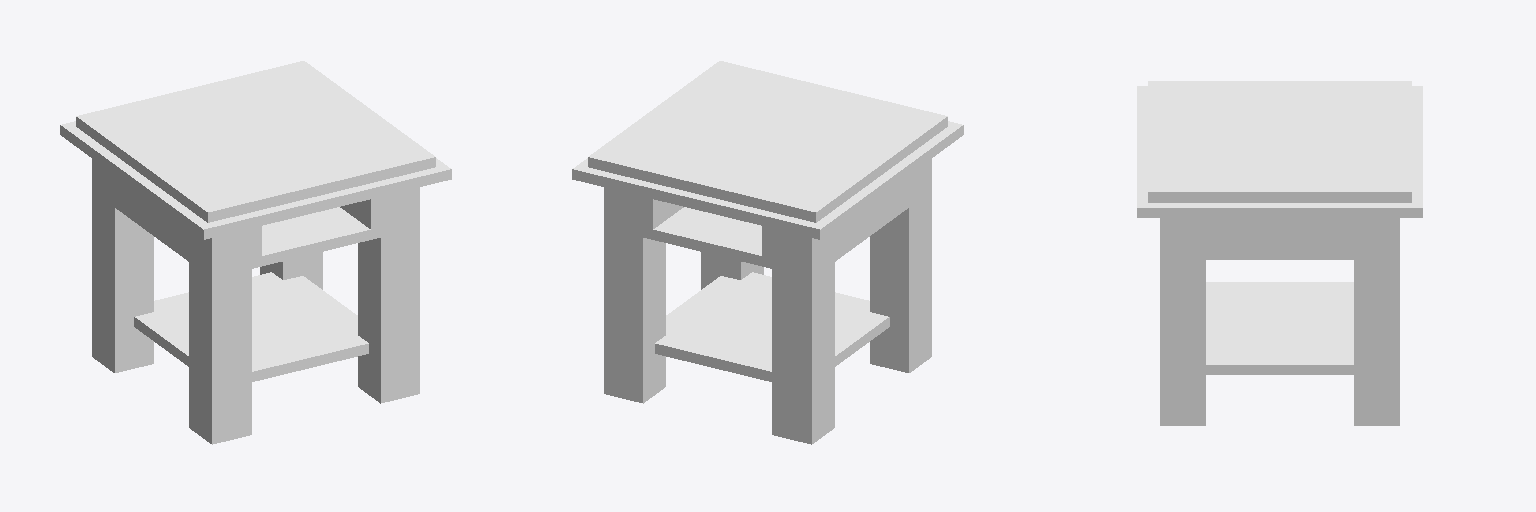
Rendered from Nightstand.obj.
The picture shows the model from 3 angles: view 1: azimuth 30°, elevation 25°; view 2: azimuth 150°, elevation 25°; view 3: azimuth 270°, elevation 25°; orthographic projection.
Bounding box in the file's own units: 25 × 23 × 25.